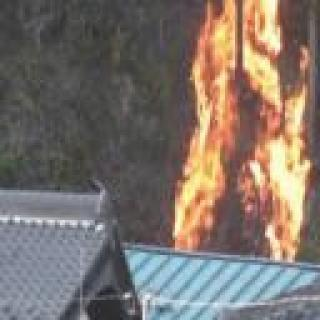fire: (173, 0, 315, 258)
